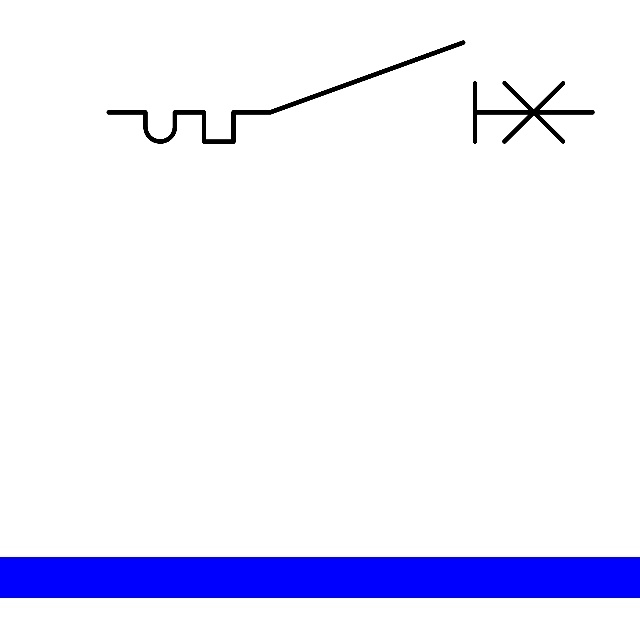interruptor_termomagnetico: (96, 30, 605, 154)
